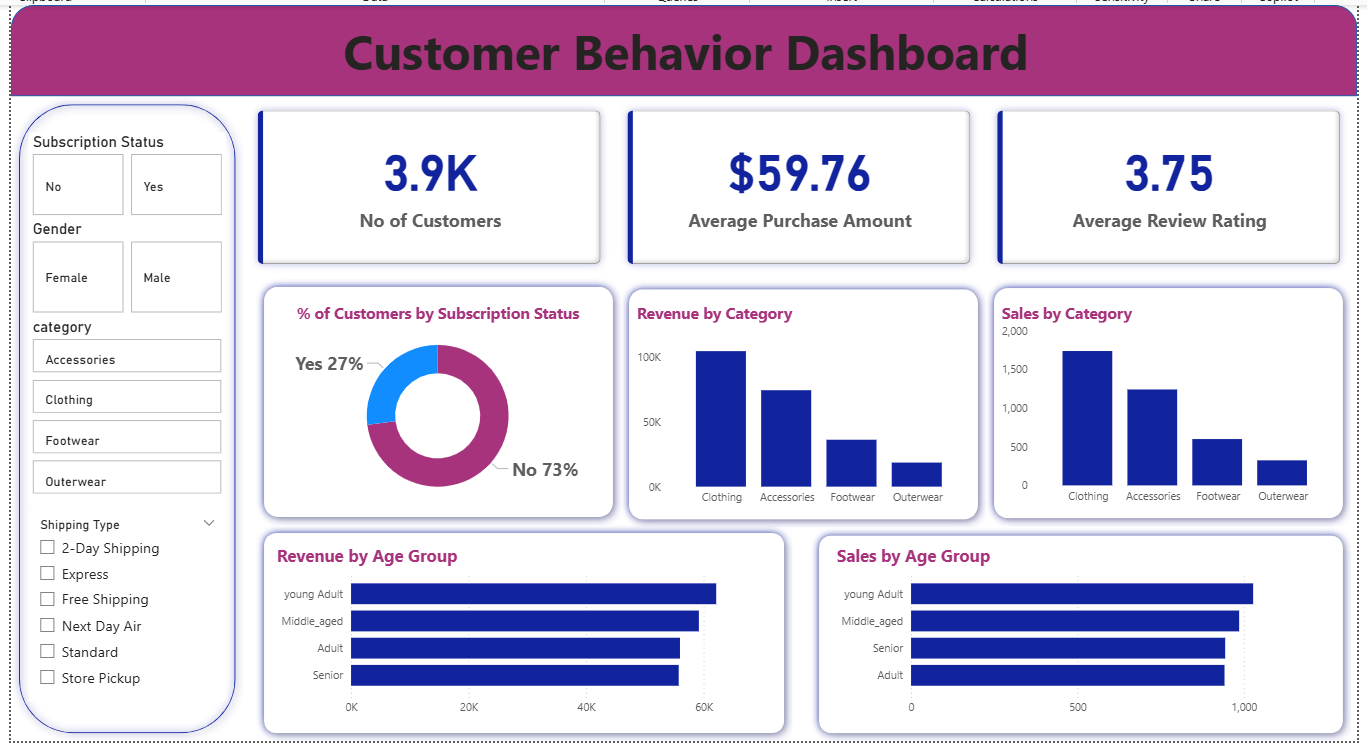

Layout of this report page (visuals, bound fields, positions):
{"tool":"powerbi","page":{"name":"Page 1","canvas":[1500,820],"ordinal":0},"visuals":[{"type":"shape","box":[891.3,582.1,601.6,238.1],"z":0},{"type":"cardVisual","fields":{"Data":["customer.No of Customers","customer.Average Purchase Amount","customer.Average Review Rating"]},"box":[259,101.7,1240.9,203.3],"z":1000},{"type":"shape","box":[0,0,1499.9,101.7],"z":2000},{"type":"textbox","box":[11.1,9.7,1481.8,91.9],"z":3000},{"type":"shape","box":[273,305,406.7,274.4],"z":4000},{"type":"donutChart","title":"% of Customers by Subscription Status","fields":{"Category":["customer.subscription_status"],"Y":["CountNonNull(customer.customer_id)"]},"box":[288.3,331.5,374.6,235.4],"z":5000},{"type":"shape","box":[679.6,307.8,406.7,274.4],"z":6000},{"type":"shape","box":[1086.3,306.4,406.7,274.4],"z":7000},{"type":"clusteredColumnChart","title":"Revenue by Category","fields":{"Y":["Sum(customer.purchase_amount)"],"Category":["customer.category"]},"box":[692.2,331.5,381.6,235.4],"z":8000},{"type":"clusteredColumnChart","title":"Sales by Category","fields":{"Category":["customer.category"],"Y":["CountNonNull(customer.customer_id)"]},"box":[1098.8,331.5,381.6,234],"z":9000},{"type":"shape","box":[0,101.7,259,718.6],"z":10000},{"type":"advancedSlicerVisual","fields":{"Values":["customer.subscription_status"]},"box":[19.5,142.1,220,97.5],"z":11000},{"type":"advancedSlicerVisual","fields":{"Values":["customer.gender"]},"box":[19.5,239.5,220,108.6],"z":12000},{"type":"advancedSlicerVisual","fields":{"Values":["customer.category"]},"box":[19.5,348.2,220,201.9],"z":13000},{"type":"slicer","fields":{"Values":["customer.shipping_type"]},"box":[19.5,565.4,220,210.3],"z":14000},{"type":"clusteredBarChart","title":"Sales by Age Group","fields":{"Category":["customer.age_group"],"Y":["CountNonNull(customer.customer_id)"]},"box":[915,600.2,552.9,200.5],"z":15000},{"type":"shape","box":[273,579.4,597.5,240.9],"z":16000},{"type":"clusteredBarChart","title":"Revenue by Age Group","fields":{"Category":["customer.age_group"],"Y":["Sum(customer.purchase_amount)"]},"box":[291.1,600.2,561.2,200.5],"z":17000}]}

Visuals, with their boxes in screenshot pixels (x1, y1, x2, y2):
shape: bbox=[815, 523, 1356, 737]
cardVisual - customer.No of Customers x customer.Average Purchase Amount: bbox=[247, 91, 1362, 274]
shape: bbox=[14, 0, 1362, 91]
textbox: bbox=[24, 9, 1356, 91]
shape: bbox=[260, 274, 625, 521]
"% of Customers by Subscription Status" donutChart: bbox=[273, 298, 610, 509]
shape: bbox=[625, 277, 991, 523]
shape: bbox=[991, 275, 1356, 522]
"Revenue by Category" clusteredColumnChart: bbox=[636, 298, 979, 509]
"Sales by Category" clusteredColumnChart: bbox=[1002, 298, 1345, 508]
shape: bbox=[14, 91, 247, 737]
advancedSlicerVisual - customer.subscription_status: bbox=[32, 128, 229, 215]
advancedSlicerVisual - customer.gender: bbox=[32, 215, 229, 313]
advancedSlicerVisual - customer.category: bbox=[32, 313, 229, 494]
slicer - customer.shipping_type: bbox=[32, 508, 229, 697]
"Sales by Age Group" clusteredBarChart: bbox=[837, 539, 1333, 720]
shape: bbox=[260, 521, 797, 737]
"Revenue by Age Group" clusteredBarChart: bbox=[276, 539, 780, 720]
